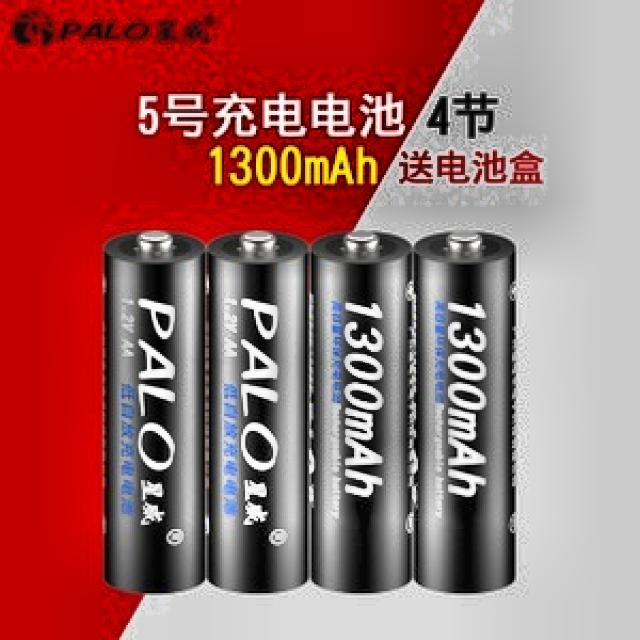Non-Valuable Waste - Batteries: (104, 231, 204, 592), (311, 232, 411, 592), (415, 234, 515, 592), (209, 231, 308, 592)
